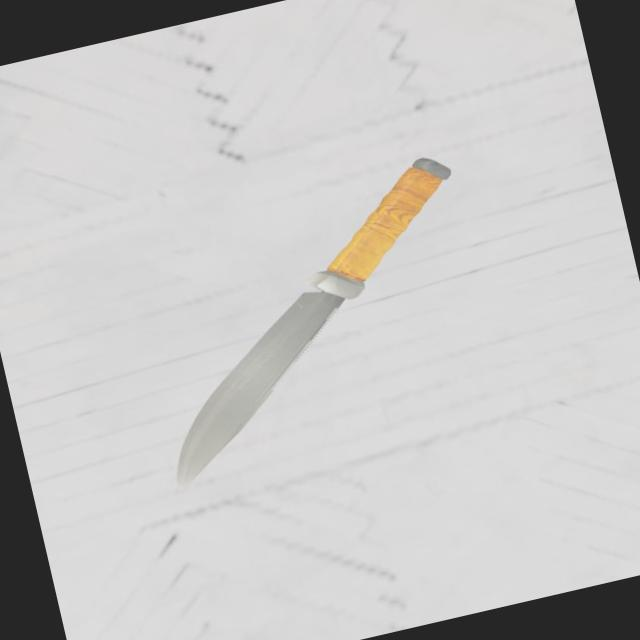knife: (299, 158, 471, 297)
